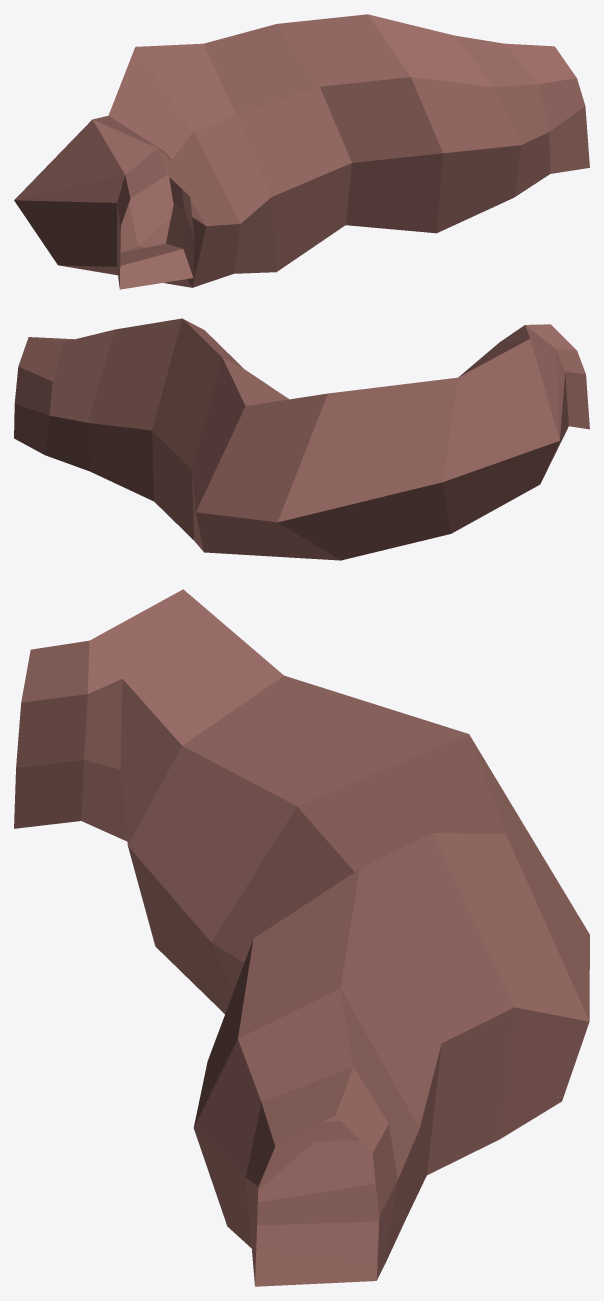
The model's file is Tunnel-C04.fbx.
3 views of the same model, one above another, from view 1: azimuth 30°, elevation 25°; view 2: azimuth 150°, elevation 25°; view 3: azimuth 270°, elevation 25° (orthographic). The views are drawn at different scales.
Parts seen in each view (by area): view 1: Tunnel-C04; view 2: Tunnel-C04; view 3: Tunnel-C04.
Part boxes in pixels (x1,y1,x2,y2): Tunnel-C04: [14, 14, 589, 289]; Tunnel-C04: [14, 318, 589, 560]; Tunnel-C04: [14, 589, 589, 1286].
Bounding box in the file's own units: 796 × 1439 × 559.
